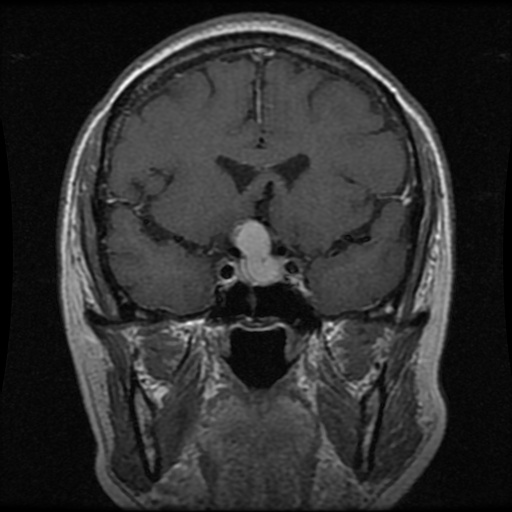pituitary: (235, 220, 284, 285)
